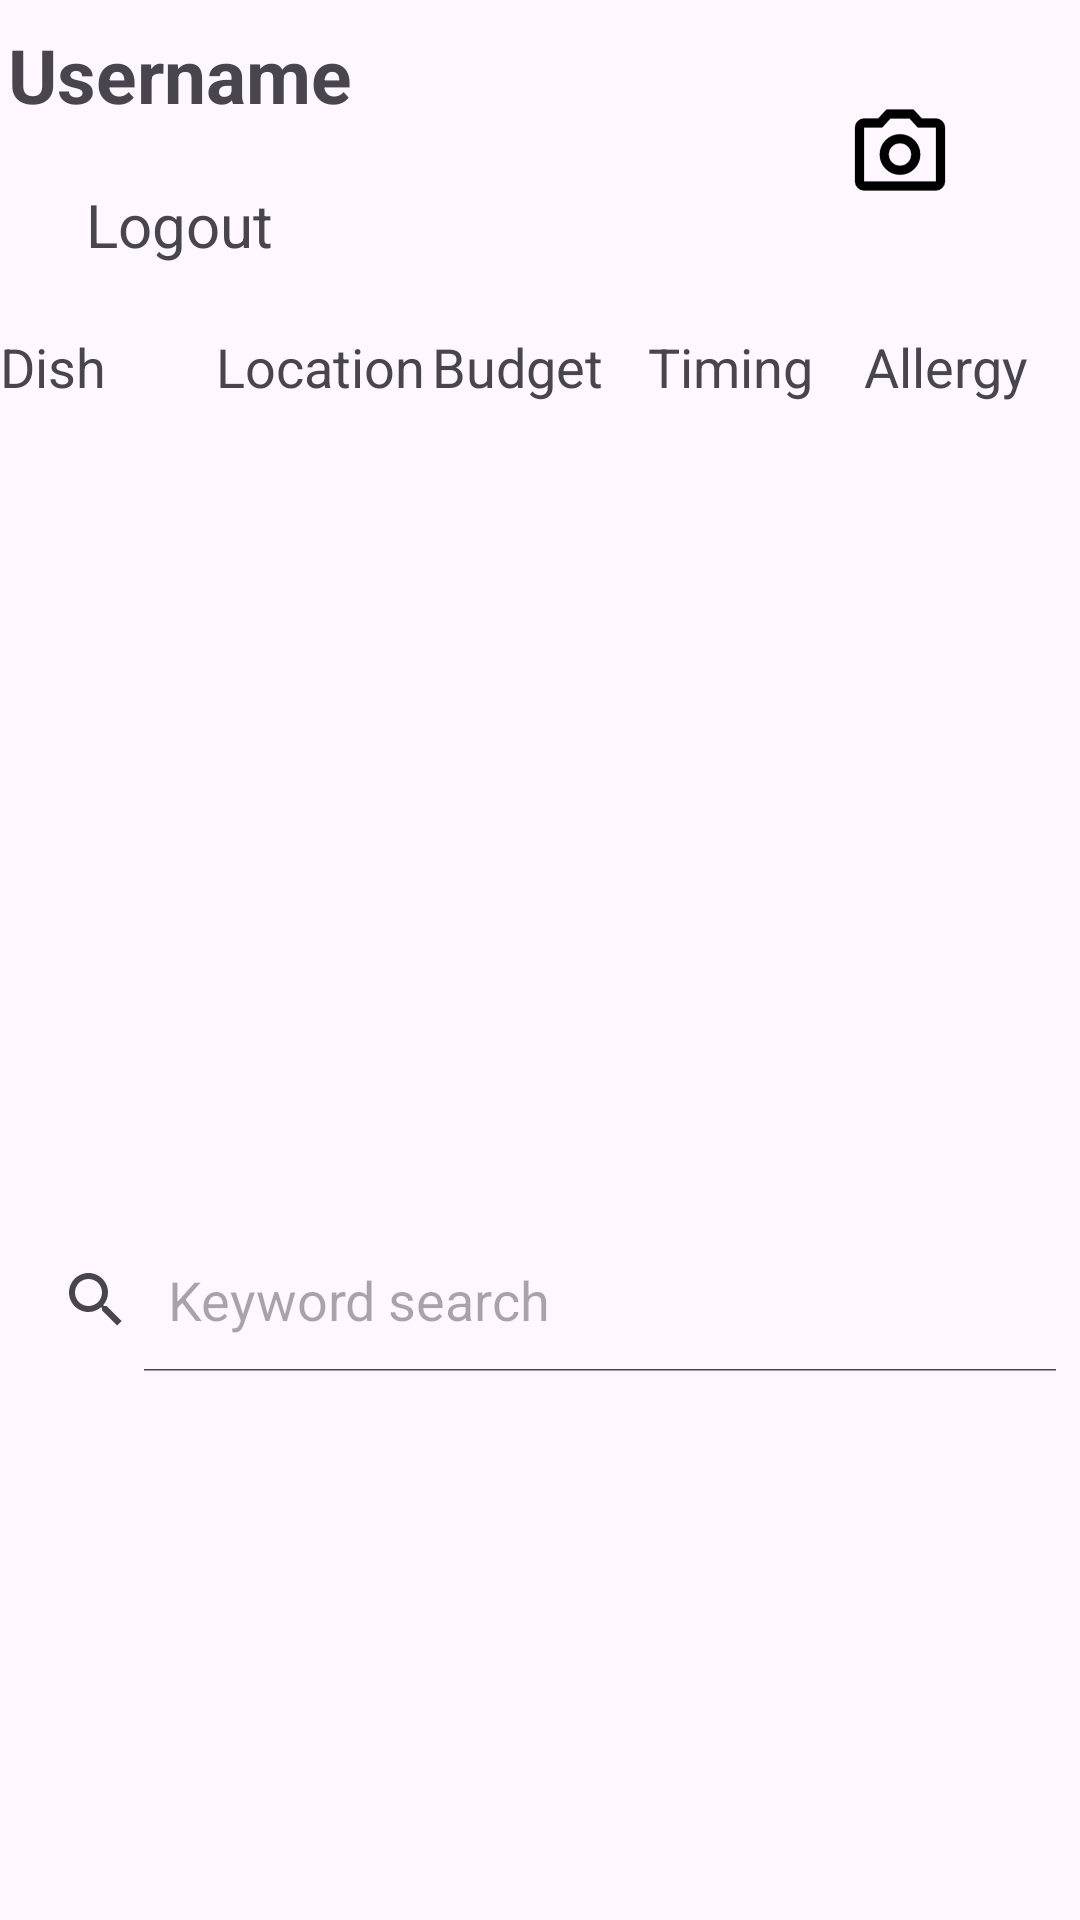

Named icons in this screenshot (1080*1920) and their centers, [x,y]:
camera icon: [900,150]
